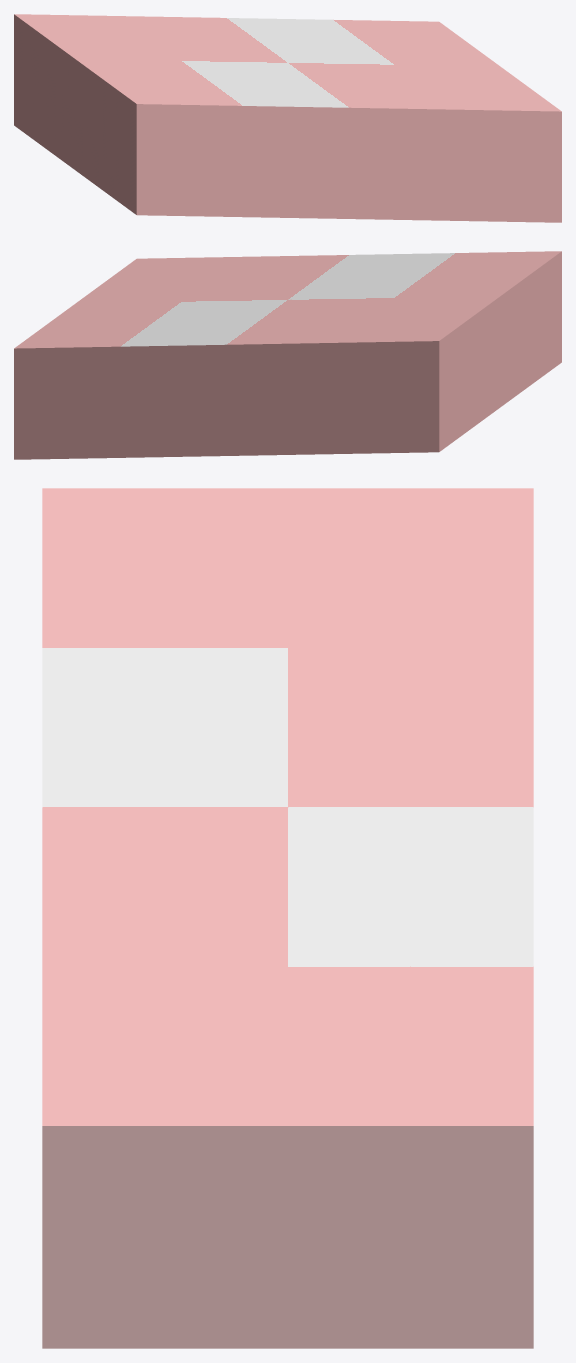
Rendered from eraser.glb.
3 views of the same model, one above another, from view 1: azimuth 30°, elevation 25°; view 2: azimuth 150°, elevation 25°; view 3: azimuth 270°, elevation 25° (orthographic). The views are drawn at different scales.
Parts seen in each view (by area): view 1: cuboid; view 2: cuboid; view 3: cuboid.
Part boxes in pixels (x1,y1,x2,y2): cuboid: (14,14,561,222); cuboid: (14,251,561,459); cuboid: (42,488,533,1348).
Size of the model in its own units: 0.25 by 0.125 by 0.125.
1 material, 1 textured.
